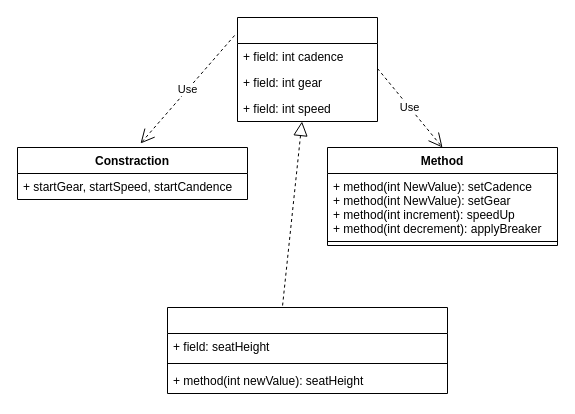
The diagram is 575 pixels wide and 414 high, and some of its shapes have lost their labels. The shapes that lost their labels are listed below. From the top down, each one's box as (x1, y1, x2, y2) in pixels, then its label:
(236, 16, 378, 122): Bicycle
(166, 306, 448, 394): MountainBike
